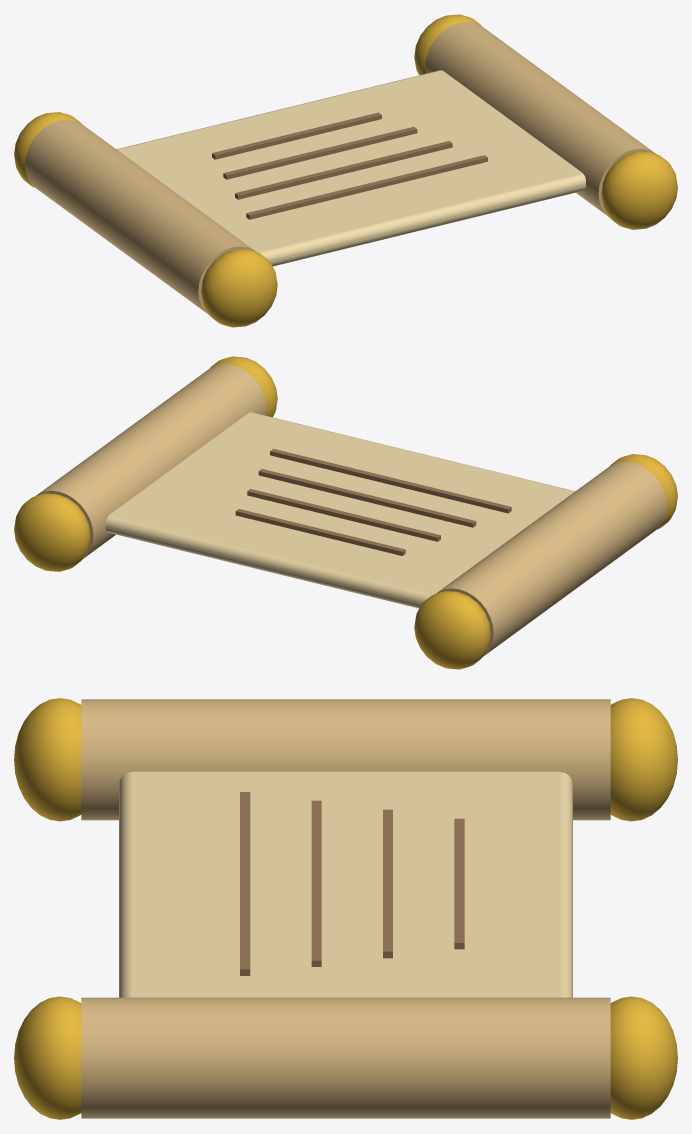
The model's file is scroll.glb.
3 views of the same model, one above another, from view 1: azimuth 30°, elevation 25°; view 2: azimuth 150°, elevation 25°; view 3: azimuth 270°, elevation 25° (orthographic). The views are drawn at different scales.
Parts seen in each view (by area): view 1: pergament; view 2: pergament; view 3: pergament.
Part boxes in pixels (x1,y1,x2,y2): pergament: [14, 14, 677, 327]; pergament: [14, 356, 677, 669]; pergament: [14, 698, 677, 1119].
Size of the model in its own units: 0.988 by 0.148 by 0.79.
